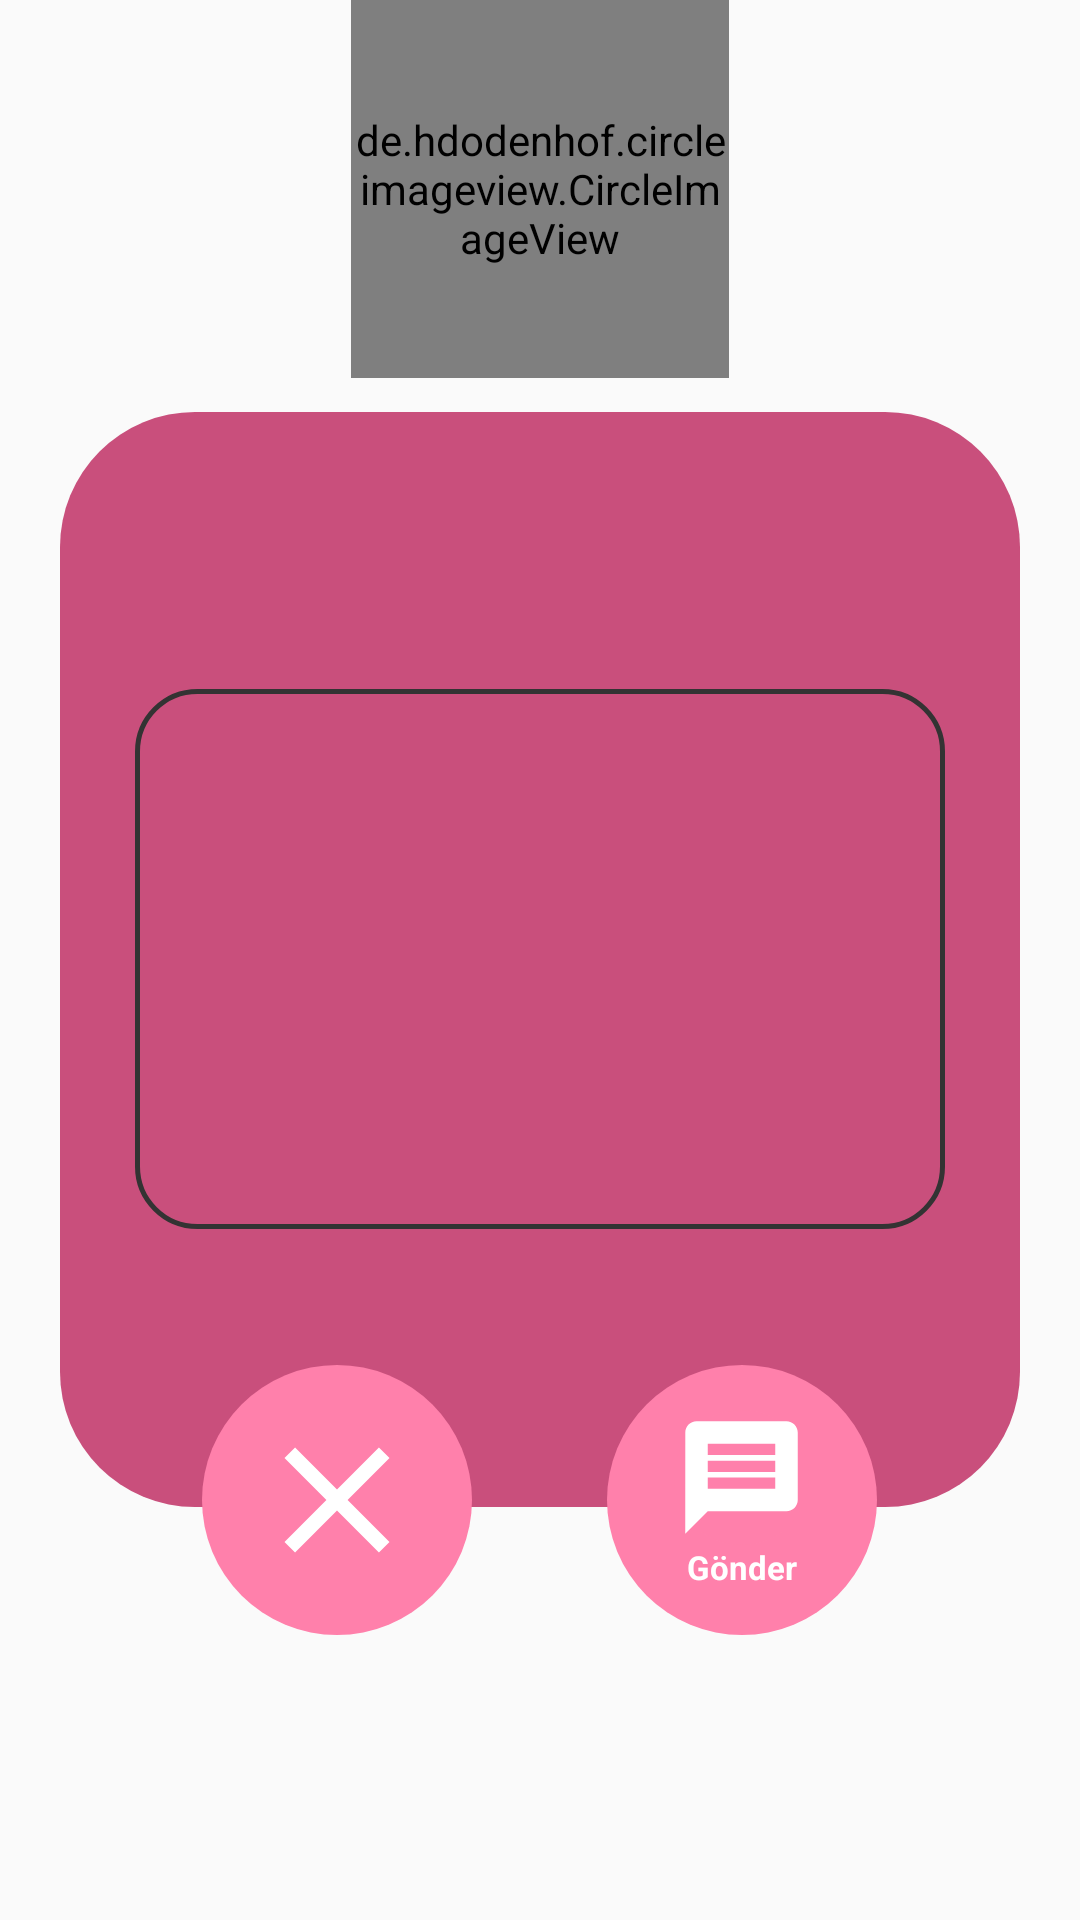

Named icons in this screenshot (1080 × 1920) and their centers, (x=x, y=y):
close: (x=337, y=1500)
message: (x=741, y=1477)
